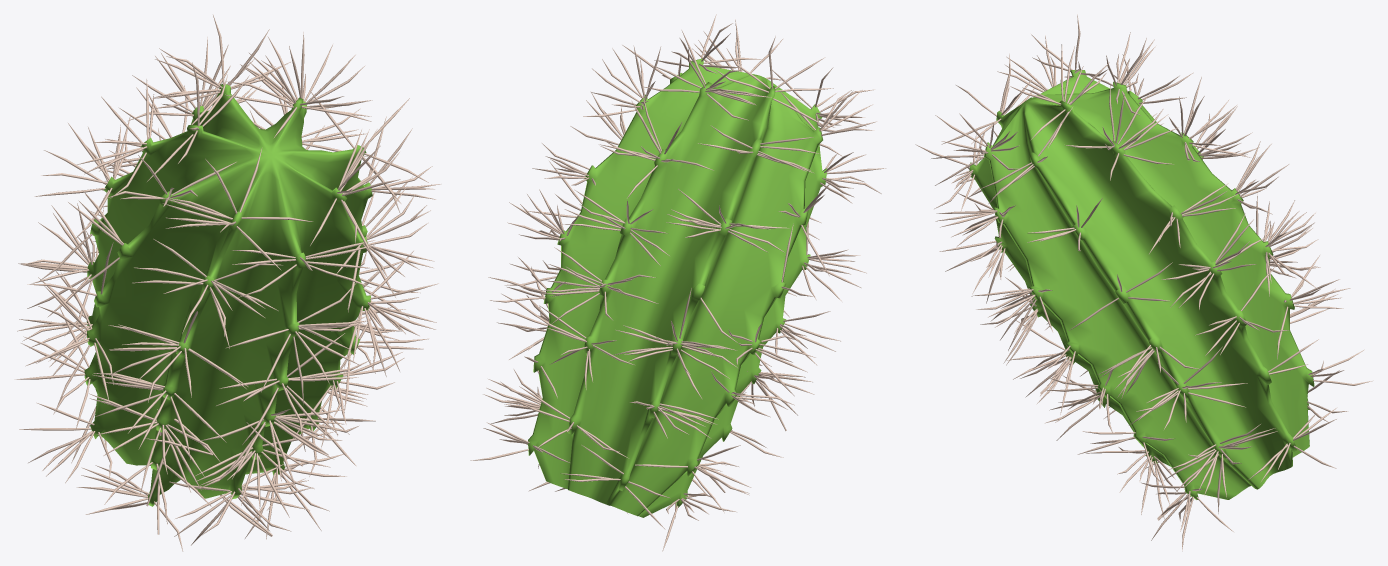
3 views of the same model, side by side, from view 1: azimuth 30°, elevation 25°; view 2: azimuth 150°, elevation 25°; view 3: azimuth 270°, elevation 25° (orthographic). The views are drawn at different scales.
Parts seen in each view (by area): view 1: Cactus.001; view 2: Cactus.001; view 3: Cactus.001.
Boxes of the visible parts, x1,y1,x2,y2 form: Cactus.001: (14,14,440,551); Cactus.001: (470,14,885,551); Cactus.001: (915,14,1373,551).
Bounding box in the file's own units: 0.9067 × 1.29 × 1.15.
